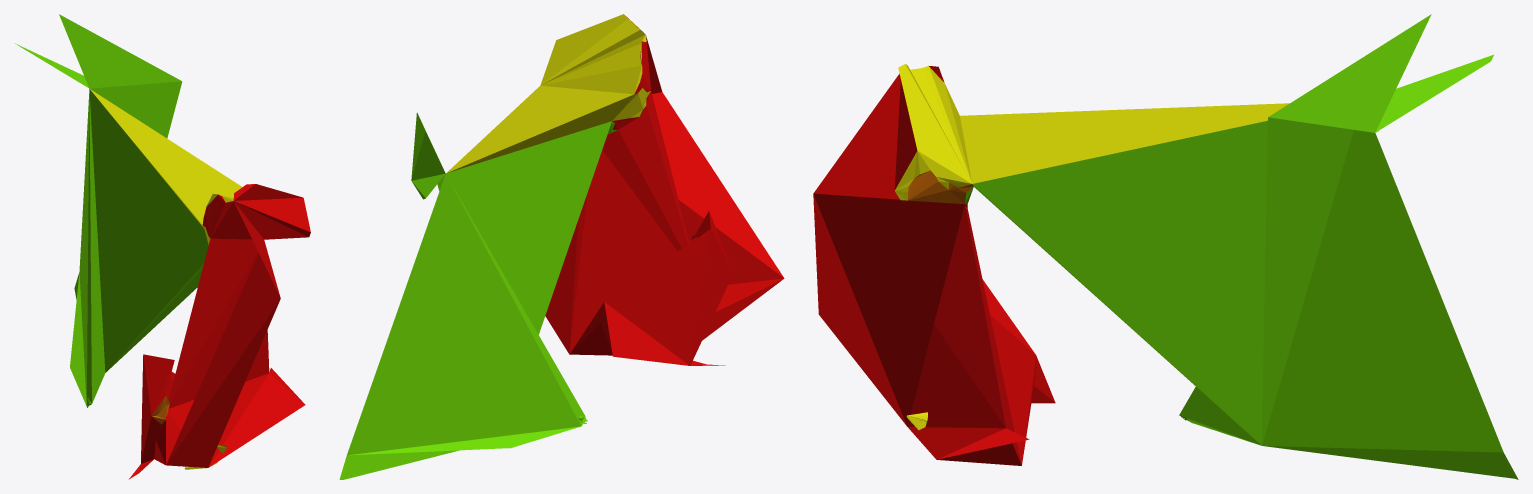
File: Dragon_80K_nanite_LOD11.fbx
The picture shows the model from 3 angles, left to right: view 1: azimuth 30°, elevation 25°; view 2: azimuth 150°, elevation 25°; view 3: azimuth 270°, elevation 25°; orthographic projection. The views are drawn at different scales.
Size of the model in its own units: 0.3181 by 0.5329 by 0.7576.
